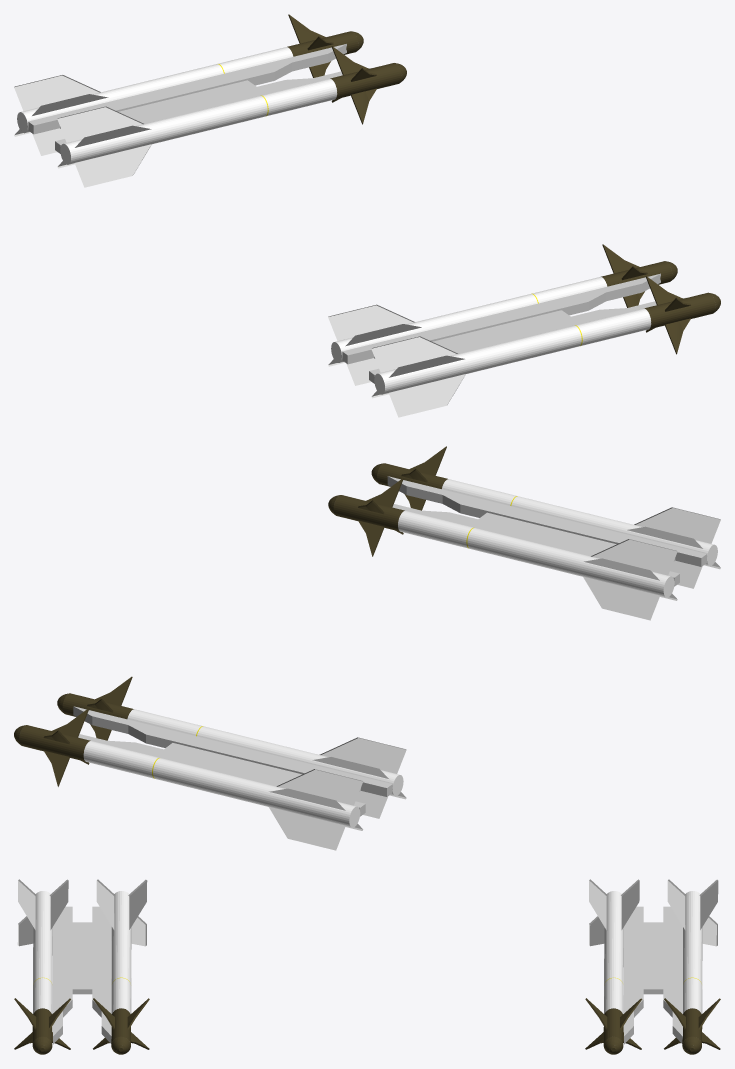
Rendered from aim9fa18e47.glb.
3 renders of one model, top to bottom at view 1: azimuth 30°, elevation 25°; view 2: azimuth 150°, elevation 25°; view 3: azimuth 270°, elevation 25°, orthographic. The views are drawn at different scales.
Parts seen in each view (by area): view 1: 円柱.004, 円柱.002, 円柱.003, 円柱.001, 立方体.020, 立方体.009; view 2: 円柱.001, 円柱.003, 円柱.004, 円柱.002, 立方体.009, 立方体.020; view 3: 立方体.009, 立方体.020, 円柱.001, 円柱.002, 円柱.003, 円柱.004.
Part boxes in pixels (left/top/right/bottom): 円柱.004: left=57, top=46, right=406, bottom=187; 円柱.002: left=371, top=276, right=720, bottom=417; 円柱.003: left=14, top=14, right=363, bottom=155; 円柱.001: left=328, top=244, right=677, bottom=385; 立方体.020: left=342, top=273, right=686, bottom=383; 立方体.009: left=28, top=44, right=371, bottom=153; 円柱.001: left=328, top=478, right=677, bottom=620; 円柱.003: left=14, top=708, right=363, bottom=850; 円柱.004: left=57, top=676, right=406, bottom=818; 円柱.002: left=371, top=446, right=720, bottom=588; 立方体.009: left=51, top=706, right=392, bottom=816; 立方体.020: left=364, top=476, right=706, bottom=586; 立方体.009: left=624, top=906, right=682, bottom=1044; 立方体.020: left=53, top=906, right=111, bottom=1044; 円柱.001: left=93, top=879, right=149, bottom=1054; 円柱.002: left=14, top=879, right=70, bottom=1054; 円柱.003: left=664, top=879, right=720, bottom=1054; 円柱.004: left=585, top=879, right=642, bottom=1054.
Bounding box in the file's own units: 3.38 × 0.543 × 6.7.
Materials: 2 (2 with a texture image).
